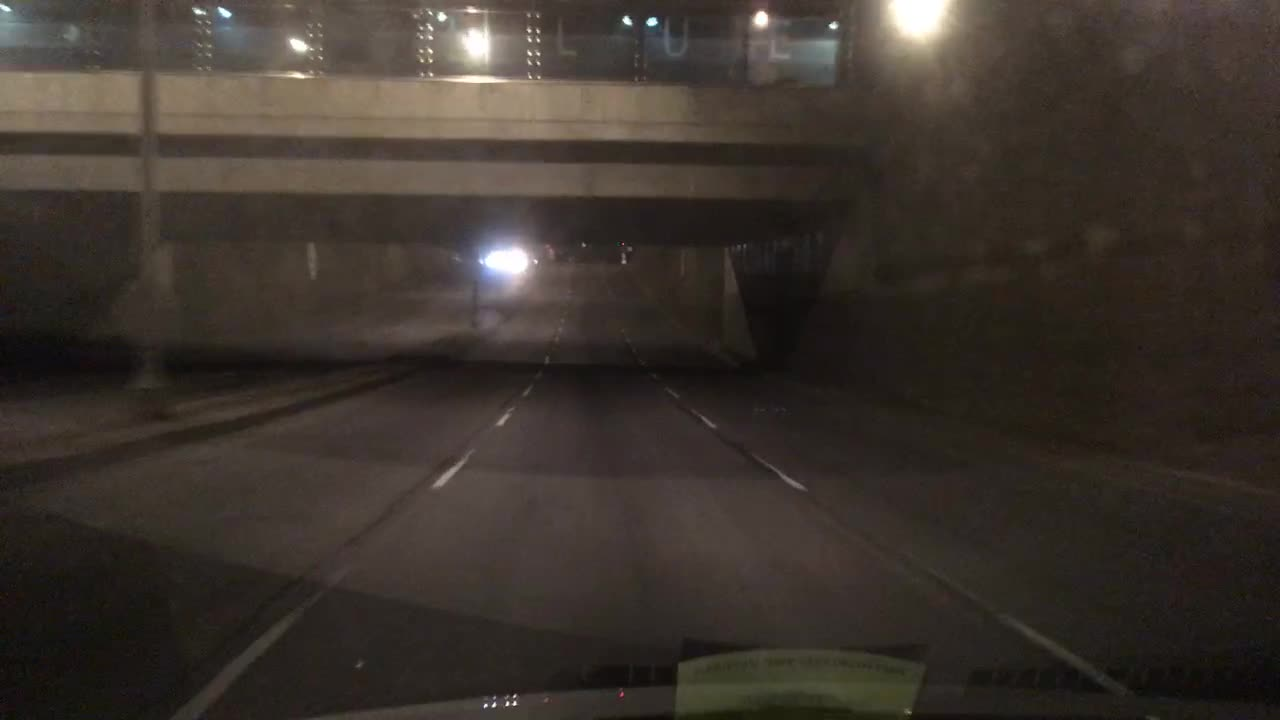car: (212, 5, 316, 55), (430, 10, 530, 60), (321, 6, 419, 57), (645, 15, 753, 60), (0, 0, 82, 52), (768, 15, 842, 63), (473, 245, 535, 278)
